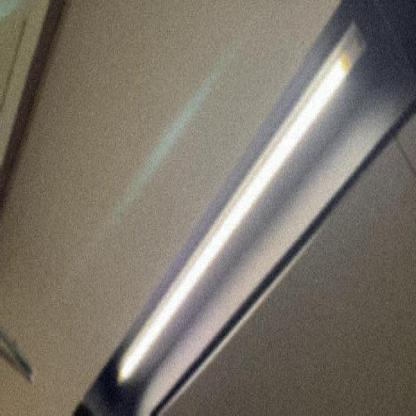light_on: (114, 15, 370, 392)
